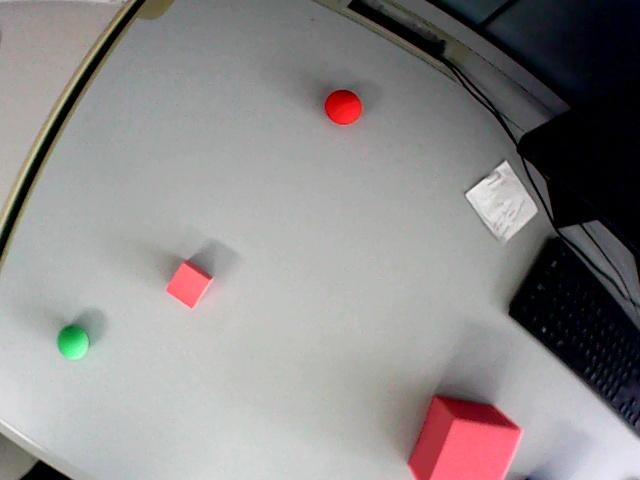red_block: (409, 396, 521, 479), (166, 261, 211, 307)
